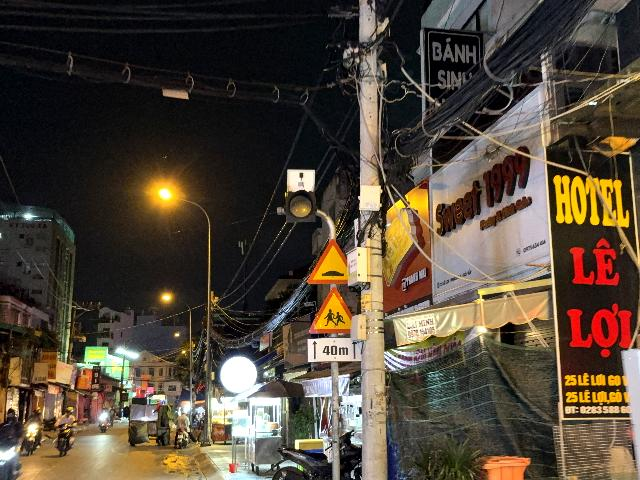duong-co-go-giam-toc: (308, 239, 348, 284)
tre-em-qua-duong: (309, 287, 354, 334)
